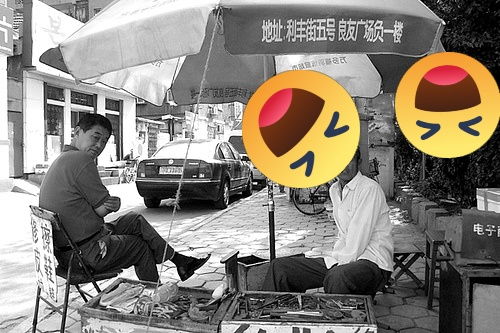haha: (242, 70, 360, 188), (395, 52, 500, 158)
